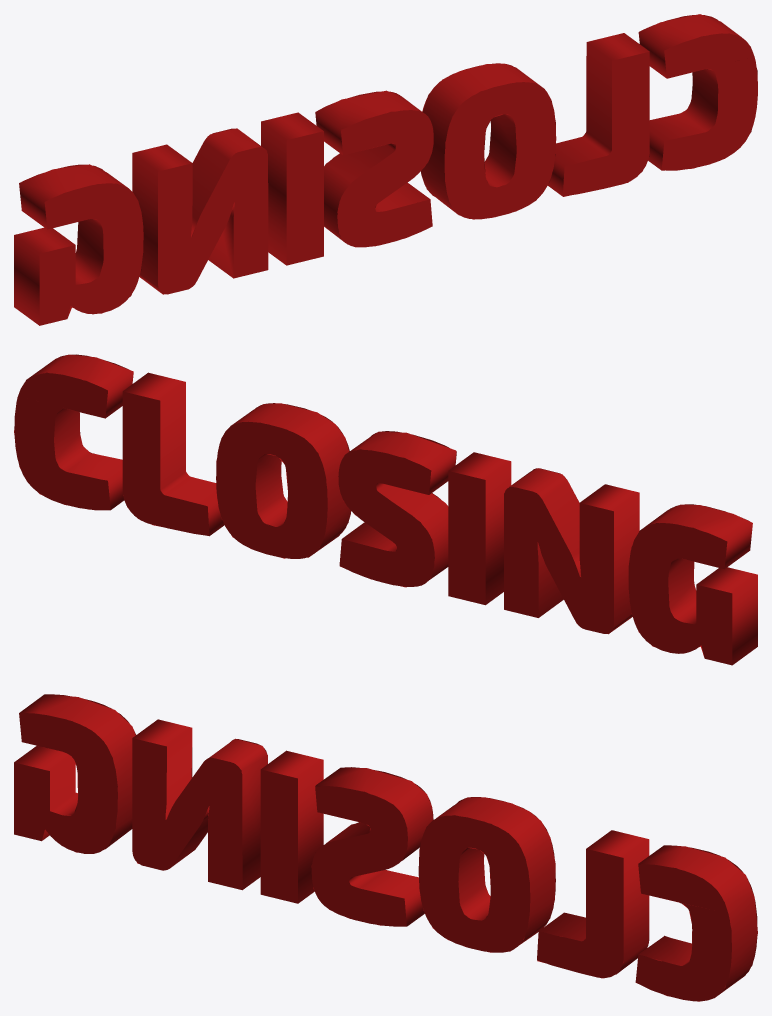
Rendered from closing.fbx.
The picture shows the model from 3 angles, top to bottom: view 1: azimuth 30°, elevation 25°; view 2: azimuth 150°, elevation 25°; view 3: azimuth 330°, elevation 25°; orthographic projection.
Visible parts, largest first — view 1: Text; view 2: Text; view 3: Text.
Part boxes in pixels (x1,y1,x2,y2): Text: (14, 14, 757, 325); Text: (14, 354, 757, 665); Text: (14, 694, 757, 1001).
Size of the model in its own units: 12.97 by 2.26 by 0.8001.
